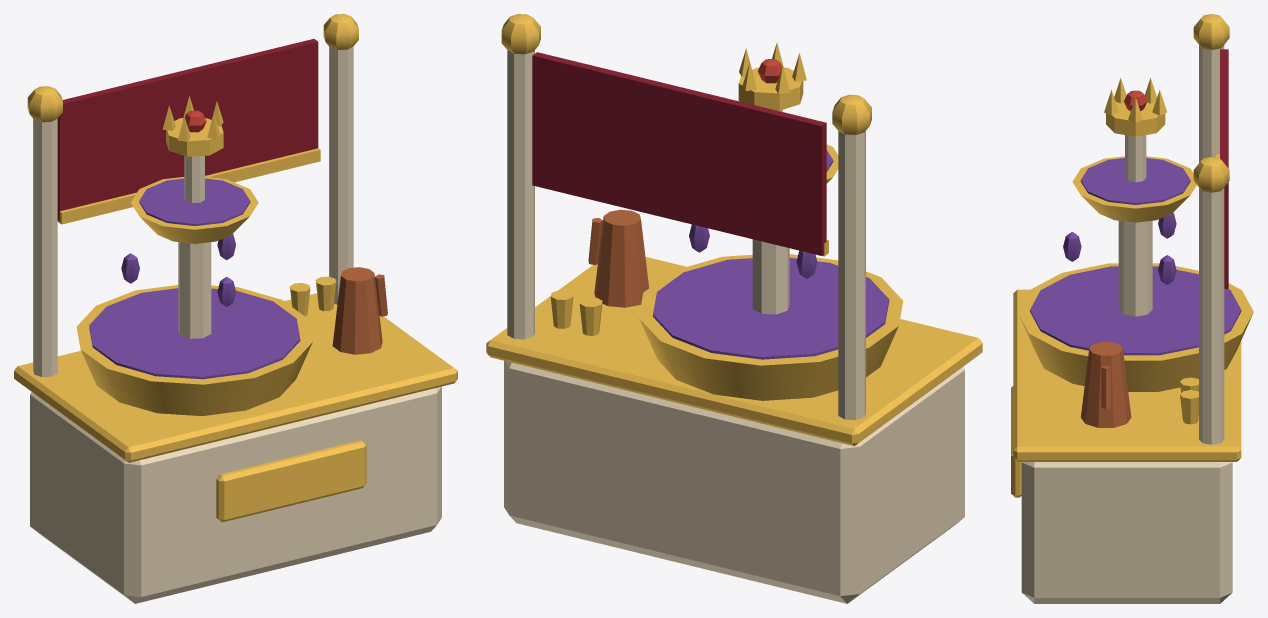
The model's file is PR_Station_Serbet_T3.fbx.
The picture shows the model from 3 angles, left to right: view 1: azimuth 30°, elevation 25°; view 2: azimuth 150°, elevation 25°; view 3: azimuth 270°, elevation 25°; orthographic projection. The views are drawn at different scales.
Visible parts, largest first — view 1: PR_Station_Serbet_T3; view 2: PR_Station_Serbet_T3; view 3: PR_Station_Serbet_T3.
Boxes of the visible parts, x1,y1,x2,y2 form: PR_Station_Serbet_T3: [14, 14, 457, 603]; PR_Station_Serbet_T3: [486, 14, 982, 603]; PR_Station_Serbet_T3: [1011, 14, 1253, 603].
Size of the model in its own units: 0.9 by 1.16 by 0.575.
Materials: 1 (1 with a texture image).
